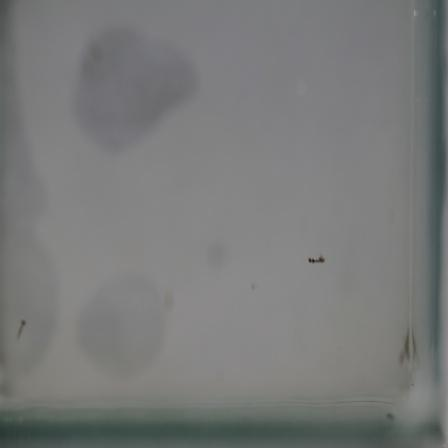Jentik-Nyamuk: (15, 320, 28, 342)
